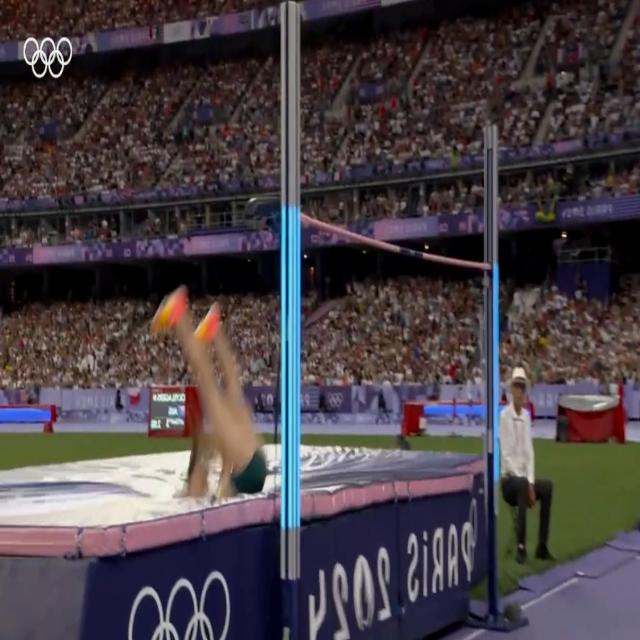land: (151, 285, 267, 499)
